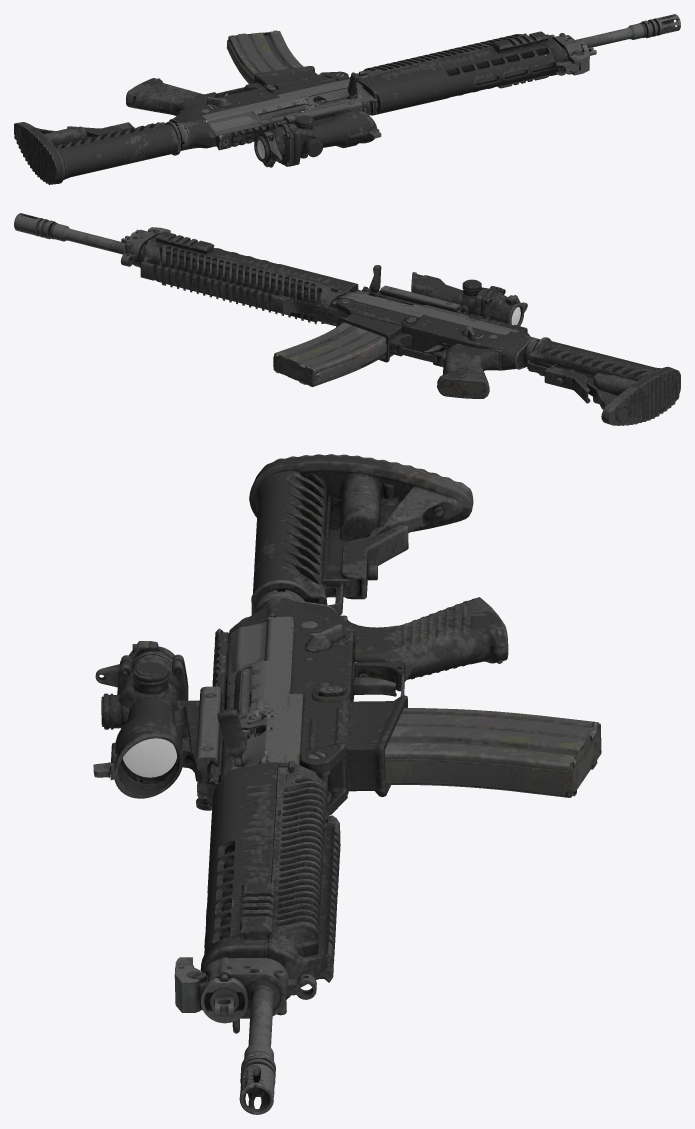
The picture shows the model from 3 angles, top to bottom: view 1: azimuth 30°, elevation 25°; view 2: azimuth 150°, elevation 25°; view 3: azimuth 270°, elevation 25°; orthographic projection. The views are drawn at different scales.
Visible parts, largest first — view 1: w_sg552; view 2: w_sg552; view 3: w_sg552.
Part boxes in pixels (box(x1,y1,x2,y2)): w_sg552: box(14, 14, 680, 184); w_sg552: box(14, 213, 680, 425); w_sg552: box(93, 454, 601, 1114).
Bounding box in the file's own units: 1.2 × 0.1025 × 0.4241.
Materials: 2 (2 with a texture image).
